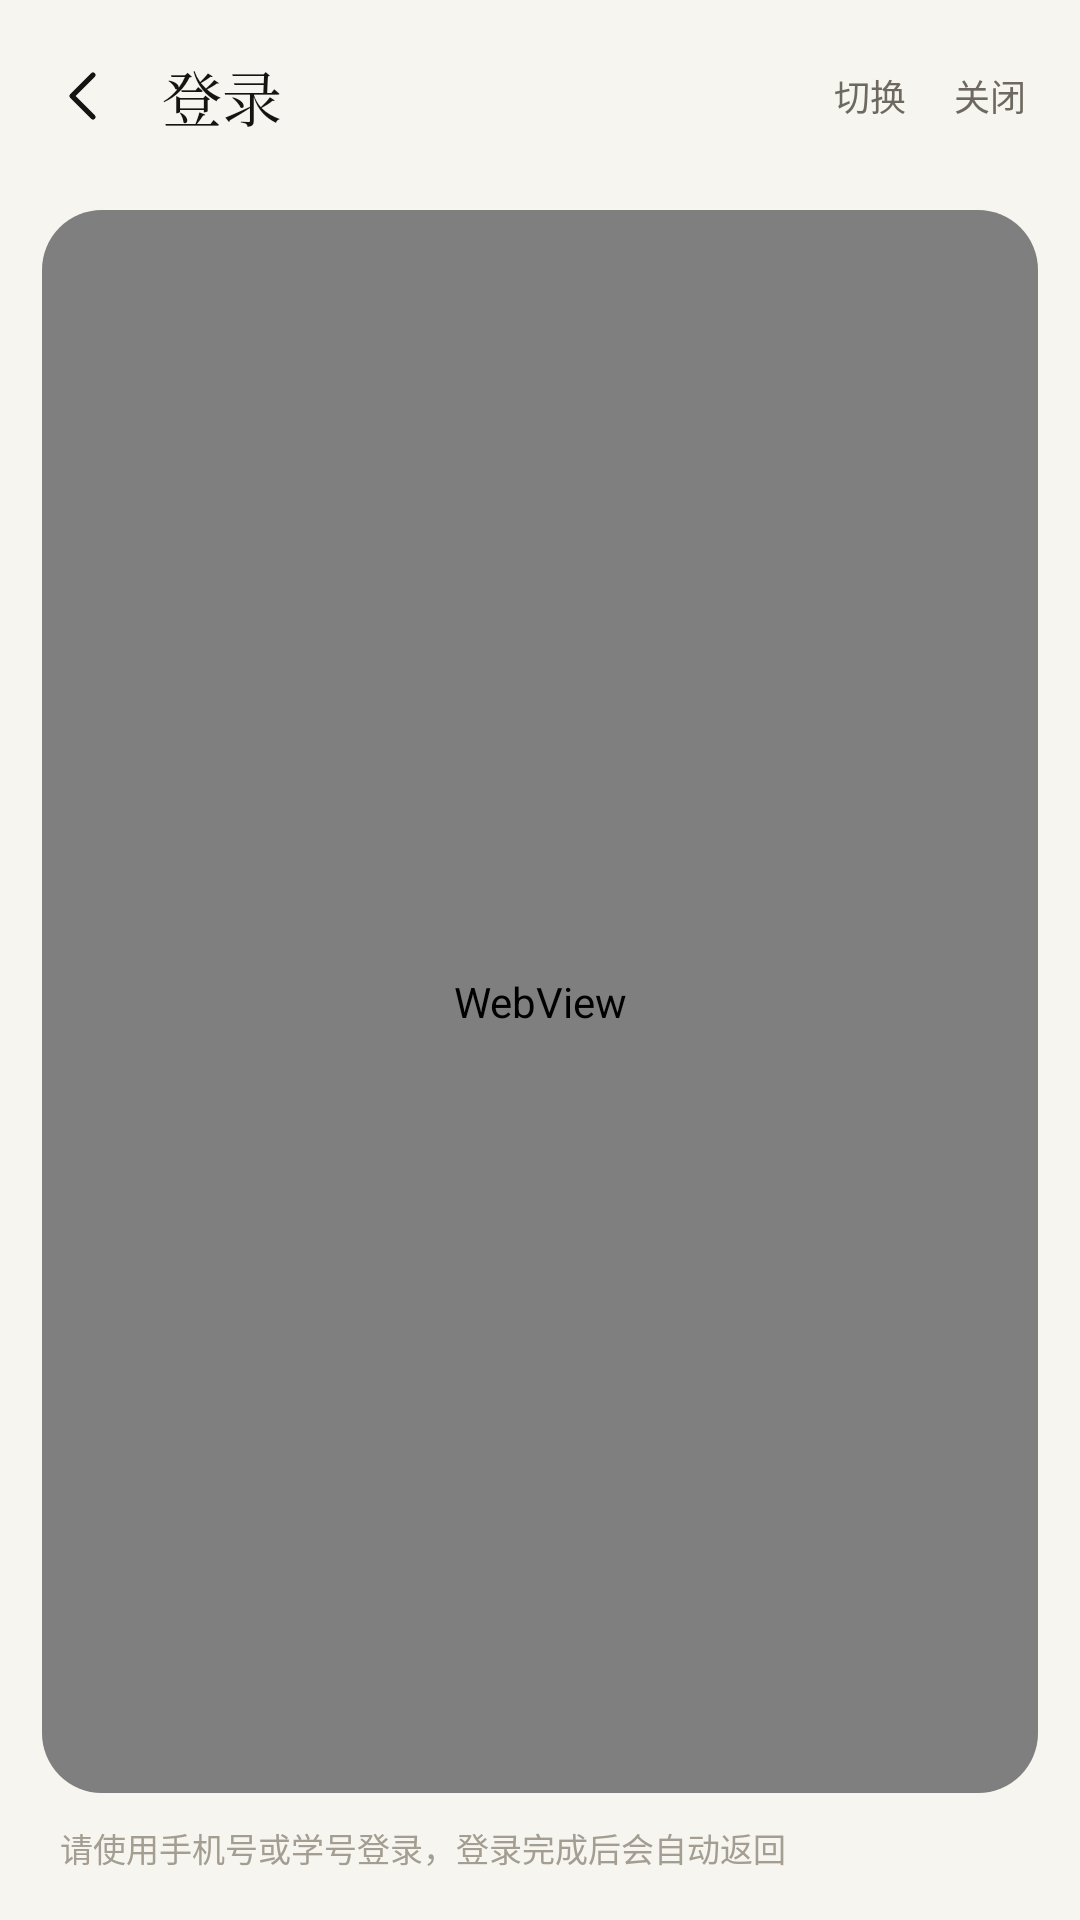

Point at icon controls on the screen. Image size 1080x1920, points as (x,y).
返回: (82,96)
